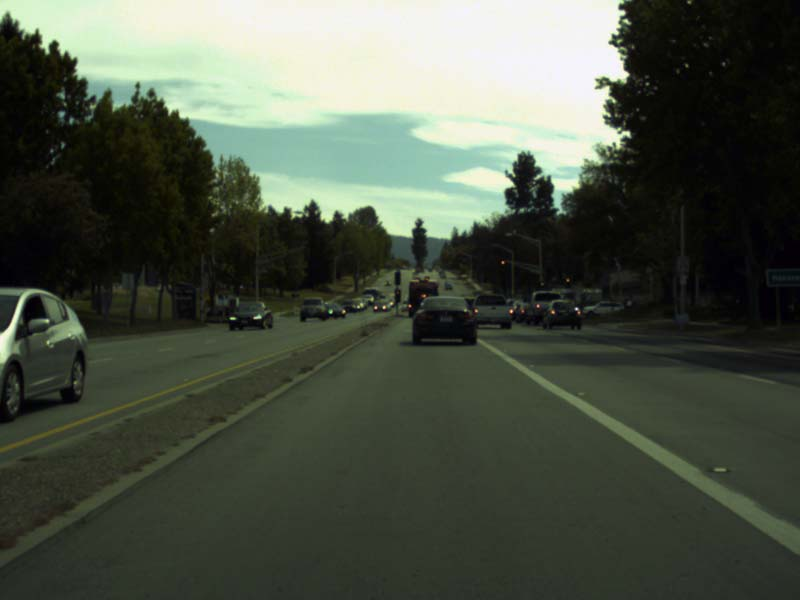Red: (498, 258, 506, 275), (538, 281, 544, 295), (565, 276, 570, 292), (394, 289, 400, 302)
